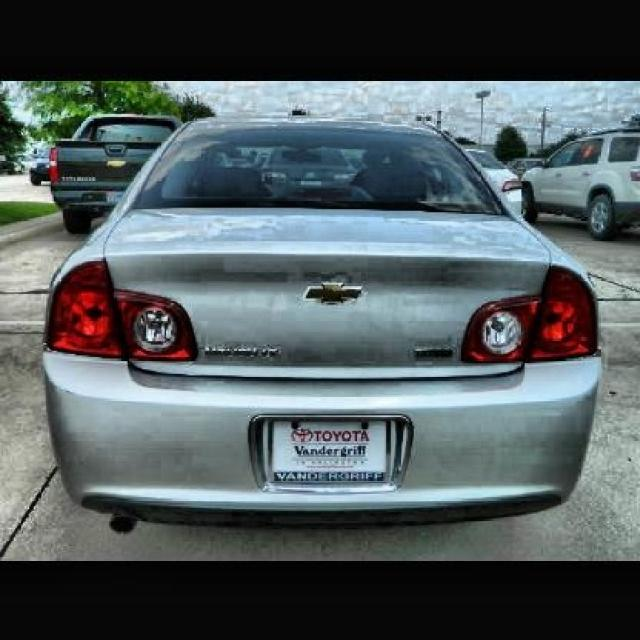black: (52, 113, 182, 222)
silver: (45, 114, 602, 532)
